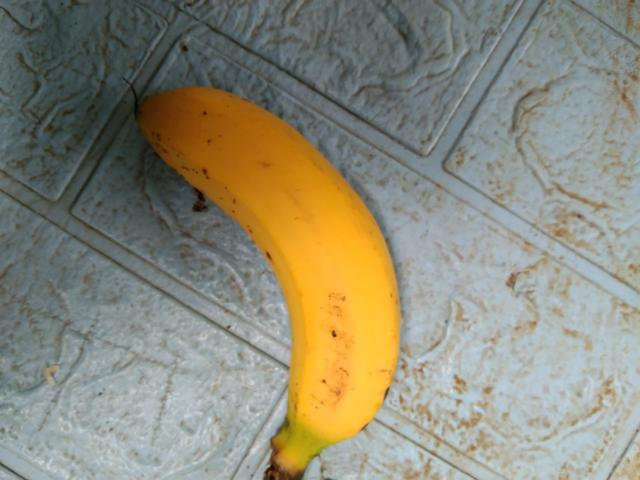freshripe: (120, 71, 424, 455)
